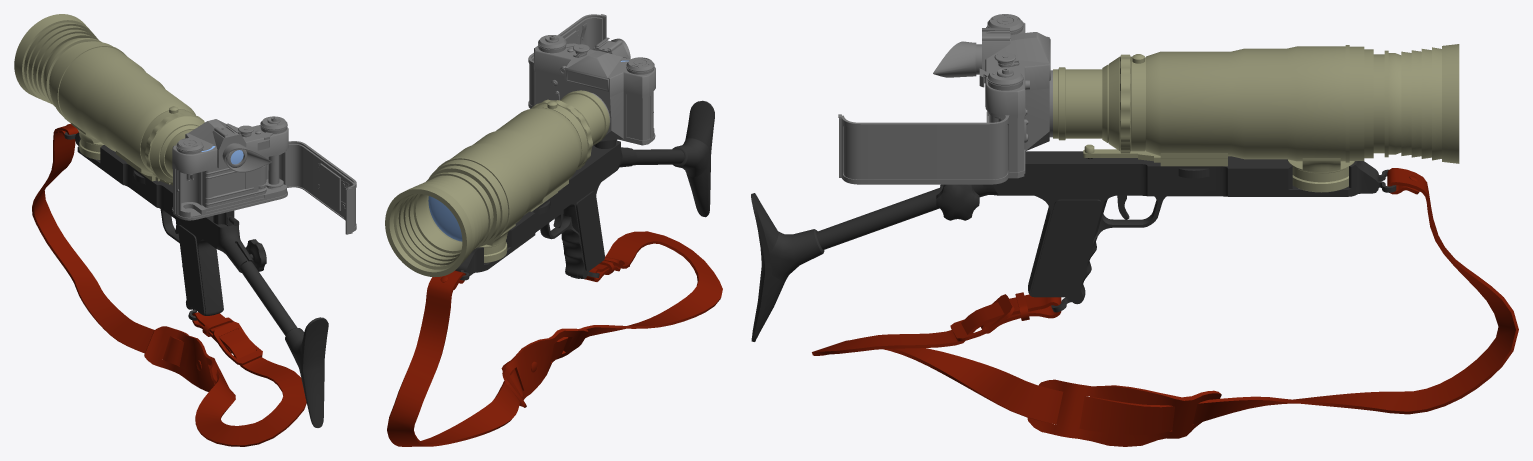
The model's file is photosniper.fbx.
3 views of the same model, side by side, from view 1: azimuth 30°, elevation 25°; view 2: azimuth 150°, elevation 25°; view 3: azimuth 270°, elevation 25° (orthographic). The views are drawn at different scales.
Visible parts, largest first — view 1: strap_main_low, lens_main_low, gun_main_low, cam_main1_low, lens_sun_shade_low, gun_stock_shoulder_low, strap_shoulder_low, cam_flap_low, cam_main2_low, gun_grip_low, gun_stock_pipe_low, cam_plate_low (+13 smaller); view 2: strap_main_low, lens_main_low, lens_sun_shade_low, gun_main_low, cam_main2_low, cam_main1_low, gun_stock_shoulder_low, strap_shoulder_low, lens_front_low, gun_grip_low, lens_back_low, cam_flap_low (+7 smaller); view 3: lens_main_low, strap_main_low, gun_main_low, cam_flap_low, lens_sun_shade_low, strap_shoulder_low, gun_grip_low, gun_stock_shoulder_low, lens_back_low, cam_main2_low, lens_front_low, gun_stock_pipe_low (+9 smaller).
Boxes of the visible parts, <box> form: strap_main_low: <box>32,125,306,446</box>; lens_main_low: <box>56,45,203,182</box>; gun_main_low: <box>75,132,254,315</box>; cam_main1_low: <box>172,149,286,217</box>; lens_sun_shade_low: <box>14,14,101,106</box>; gun_stock_shoulder_low: <box>285,317,328,427</box>; strap_shoulder_low: <box>144,326,228,391</box>; cam_flap_low: <box>286,141,356,231</box>; cam_main2_low: <box>172,119,288,173</box>; gun_grip_low: <box>178,225,223,315</box>; gun_stock_pipe_low: <box>236,243,297,335</box>; cam_plate_low: <box>320,163,340,210</box>; strap_main_low: <box>387,231,722,446</box>; lens_main_low: <box>436,108,588,242</box>; lens_sun_shade_low: <box>385,172,491,277</box>; gun_main_low: <box>455,140,637,278</box>; cam_main2_low: <box>534,46,655,97</box>; cam_main1_low: <box>534,67,654,143</box>; gun_stock_shoulder_low: <box>672,100,714,217</box>; strap_shoulder_low: <box>501,328,588,407</box>; lens_front_low: <box>428,159,508,247</box>; gun_grip_low: <box>562,191,604,271</box>; lens_back_low: <box>560,90,609,145</box>; cam_flap_low: <box>528,14,602,108</box>; lens_main_low: <box>1108,45,1349,162</box>; strap_main_low: <box>812,168,1518,434</box>; gun_main_low: <box>940,151,1378,304</box>; cam_flap_low: <box>841,115,1009,184</box>; lens_sun_shade_low: <box>1384,44,1459,163</box>; strap_shoulder_low: <box>1027,379,1221,446</box>; gun_grip_low: <box>1031,199,1101,297</box>; gun_stock_shoulder_low: <box>751,193,824,341</box>; lens_back_low: <box>1053,67,1102,140</box>; cam_main2_low: <box>985,22,1049,115</box>; lens_front_low: <box>1349,46,1373,160</box>; gun_stock_pipe_low: <box>816,188,940,249</box>.
Size of the model in its own units: 6.47 by 13.46 by 23.47.
